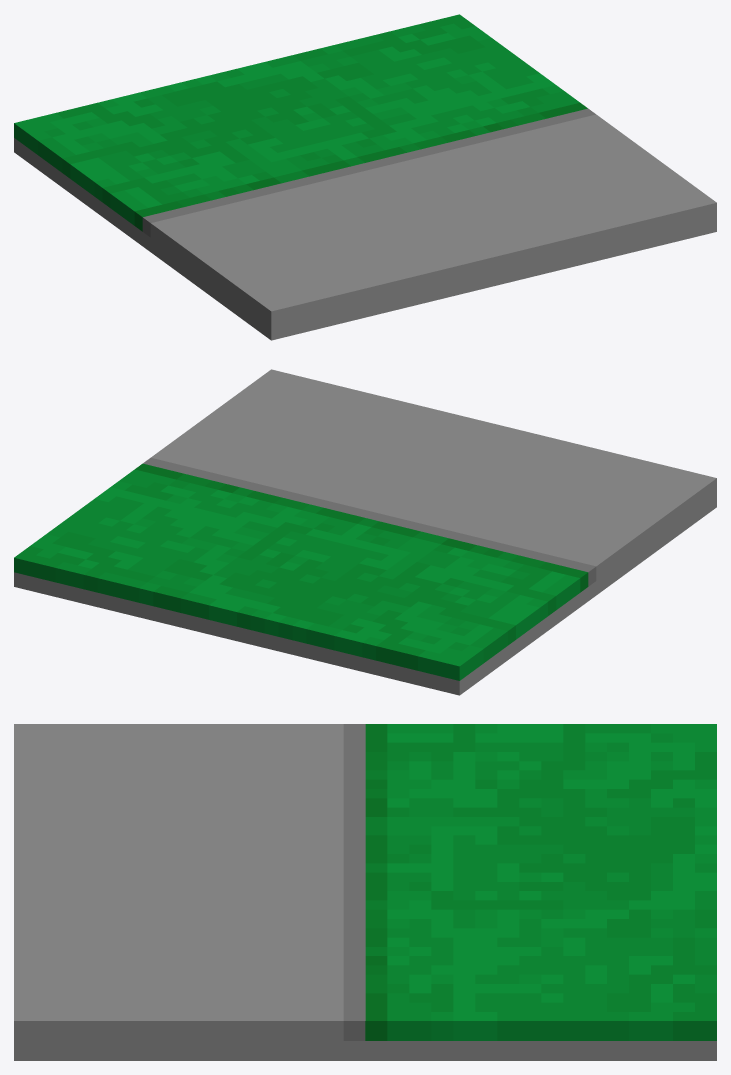
The model's file is forest-city-side-3.gltf.
3 renders of one model, top to bottom at view 1: azimuth 30°, elevation 25°; view 2: azimuth 150°, elevation 25°; view 3: azimuth 270°, elevation 25°, orthographic. The views are drawn at different scales.
Visible parts, largest first — view 1: forest-city-side-3; view 2: forest-city-side-3; view 3: forest-city-side-3.
Part boxes in pixels (x1=…): forest-city-side-3: x1=14, y1=14, x2=716, y2=340; forest-city-side-3: x1=14, y1=369, x2=716, y2=695; forest-city-side-3: x1=14, y1=724, x2=716, y2=1060.
Size of the model in its own units: 3.2 by 0.2 by 3.2.
Materials: 1 (1 with a texture image).
